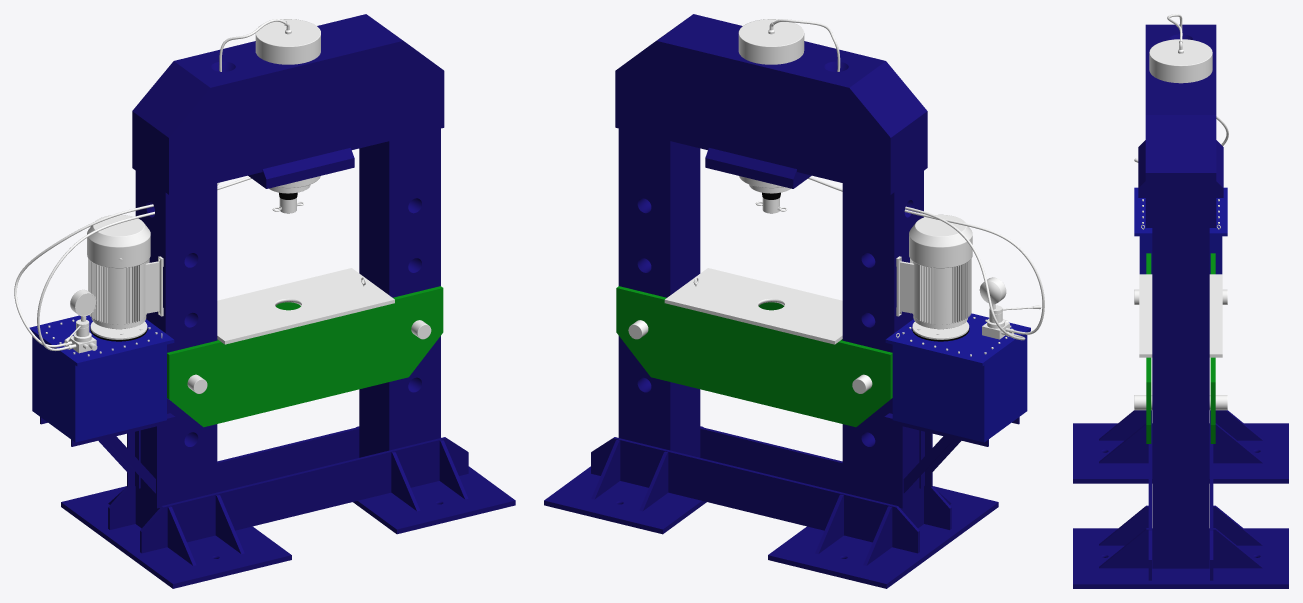
File: model.opt.glb
3 renders of one model, left to right at view 1: azimuth 30°, elevation 25°; view 2: azimuth 150°, elevation 25°; view 3: azimuth 270°, elevation 25°, orthographic. The views are drawn at different scales.
Parts seen in each view (by area): view 1: Object_3, Object_8, Object_5, Object_4, Object_7, Object_9, Object_6; view 2: Object_3, Object_8, Object_5, Object_4, Object_9, Object_7, Object_6; view 3: Object_3, Object_5, Object_4, Object_8.
Part boxes in pixels (x1=…): Object_3: x1=40, y1=14, x2=515, y2=588; Object_8: x1=167, y1=286, x2=443, y2=427; Object_5: x1=87, y1=19, x2=431, y2=393; Object_4: x1=29, y1=315, x2=174, y2=442; Object_7: x1=37, y1=19, x2=286, y2=350; Object_9: x1=64, y1=289, x2=142, y2=353; Object_6: x1=14, y1=177, x2=251, y2=347; Object_3: x1=544, y1=14, x2=1019, y2=588; Object_8: x1=616, y1=286, x2=892, y2=427; Object_5: x1=628, y1=19, x2=972, y2=393; Object_4: x1=885, y1=313, x2=1030, y2=442; Object_9: x1=917, y1=277, x2=1041, y2=339; Object_7: x1=773, y1=19, x2=1044, y2=334; Object_6: x1=808, y1=177, x2=1025, y2=340; Object_3: x1=1073, y1=24, x2=1288, y2=588; Object_5: x1=1134, y1=39, x2=1227, y2=410; Object_4: x1=1134, y1=187, x2=1227, y2=274; Object_8: x1=1146, y1=253, x2=1215, y2=443.
Bounding box in the file's own units: 7.29 × 7.89 × 3.27.
